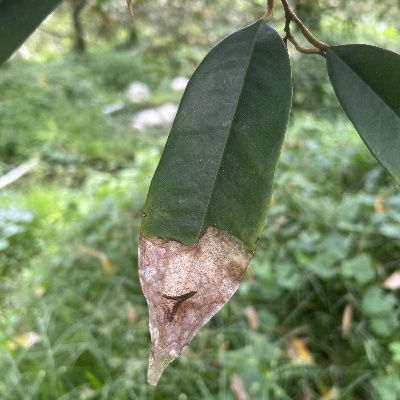Leaf_Colletotrichum: (136, 19, 295, 387)
